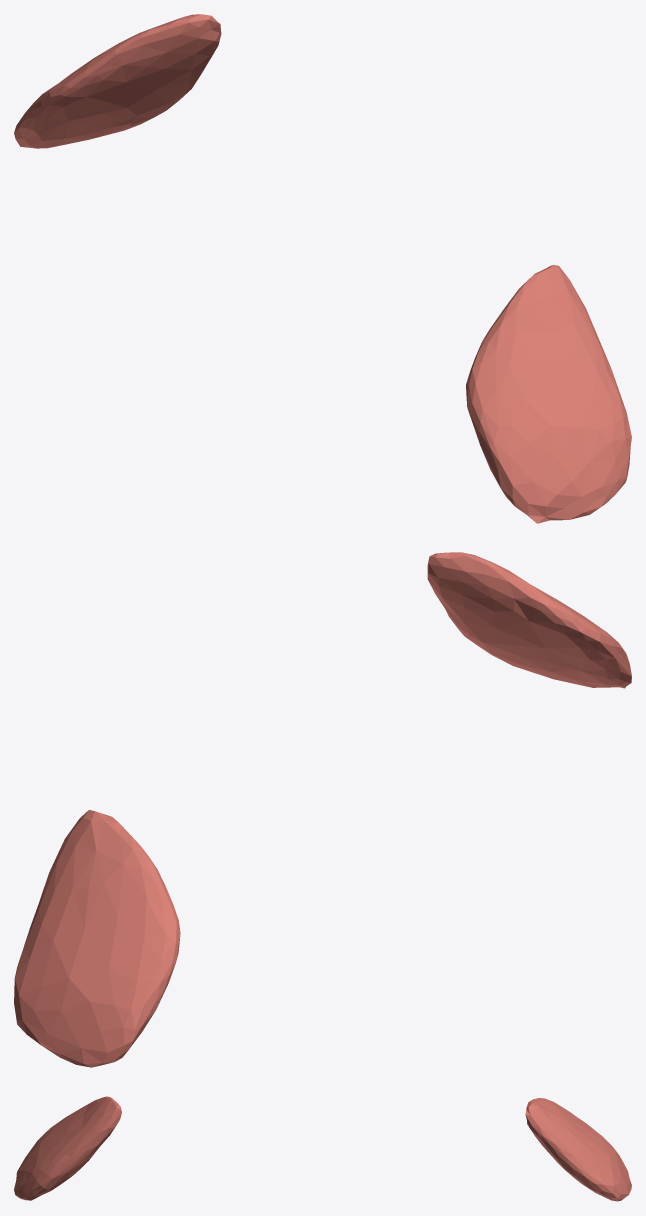
3 views of the same model, one above another, from view 1: azimuth 30°, elevation 25°; view 2: azimuth 150°, elevation 25°; view 3: azimuth 270°, elevation 25° (orthographic). The views are drawn at different scales.
Parts seen in each view (by area): view 1: 470.obj; view 2: 470.obj; view 3: 470.obj.
Part boxes in pixels (x1,y1,x2,y2): 470.obj: [14, 14, 631, 523]; 470.obj: [14, 552, 631, 1067]; 470.obj: [14, 1096, 631, 1201].
Size of the model in its own units: 661 by 765 by 4040.
